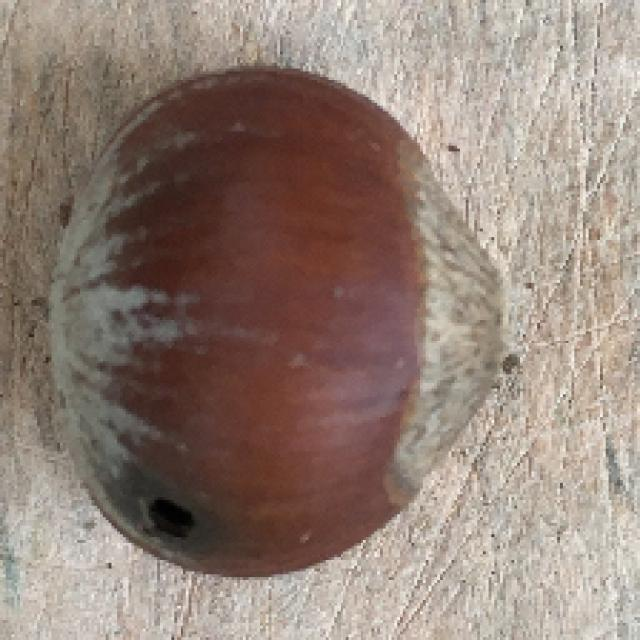damagedHazelnut: (40, 63, 507, 580)
